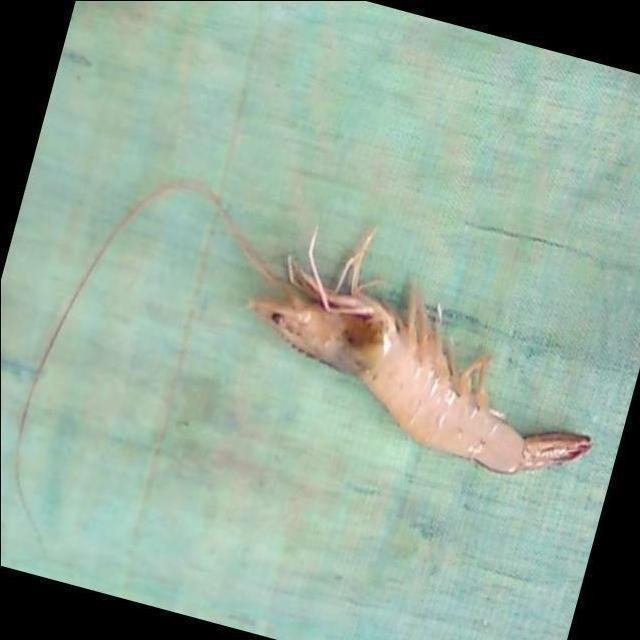shrimp: (247, 230, 592, 474)
